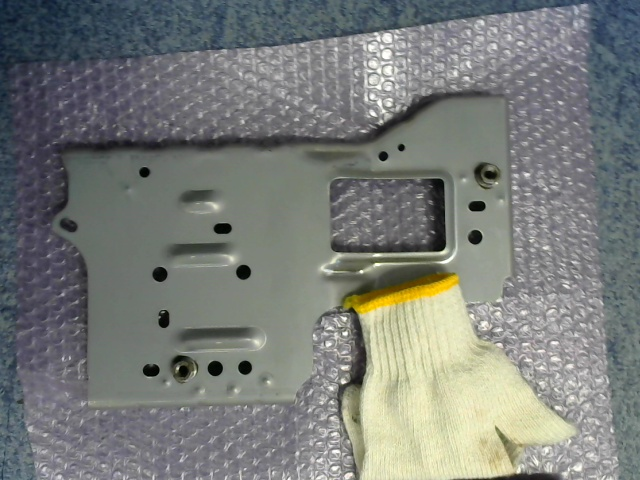dog: (474, 162, 501, 189), (172, 354, 197, 383)
